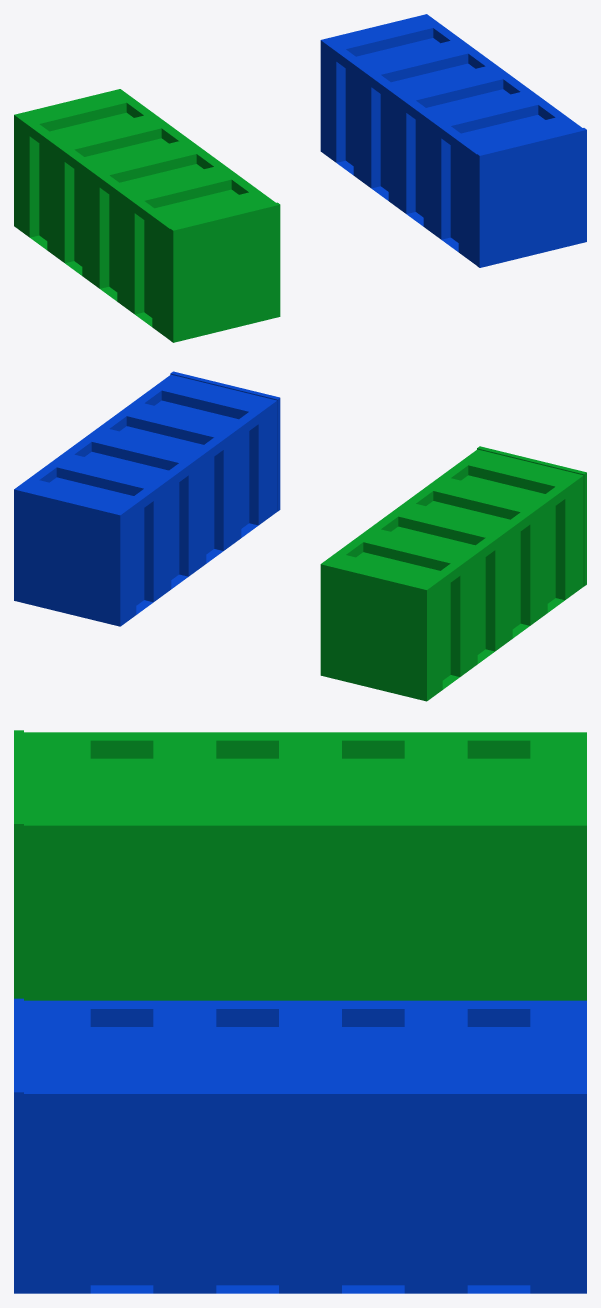
File: MyContainer.fbx
3 renders of one model, top to bottom at view 1: azimuth 30°, elevation 25°; view 2: azimuth 150°, elevation 25°; view 3: azimuth 270°, elevation 25°, orthographic. The views are drawn at different scales.
Parts seen in each view (by area): view 1: Cube.002, Cube, Cube.003, Cube.001; view 2: Cube.002, Cube, Cube.001, Cube.003; view 3: Cube, Cube.002, Cube.001, Cube.003.
Part boxes in pixels (box(x1,y1,x2,y2)): Cube.002: box(14, 89, 275, 339); Cube: box(320, 14, 581, 265); Cube.003: box(170, 202, 280, 342); Cube.001: box(477, 128, 586, 267); Cube.002: box(320, 449, 583, 701); Cube: box(14, 374, 277, 626); Cube.001: box(170, 371, 280, 511); Cube.003: box(477, 446, 586, 586); Cube: box(24, 1000, 586, 1293); Cube.002: box(24, 732, 586, 1000); Cube.001: box(14, 998, 23, 1293); Cube.003: box(14, 730, 23, 998).
Bounding box in the file's own units: 18.8 × 4.88 × 12.57.
